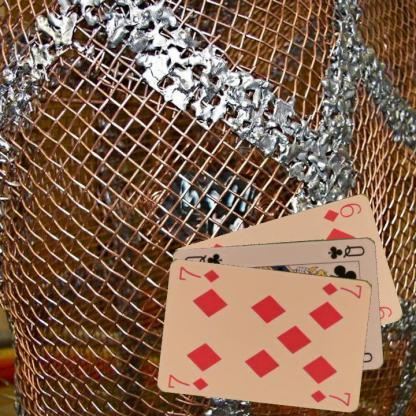6d: (321, 200, 363, 223)
7d: (320, 280, 364, 300), (166, 371, 210, 391)
Qc: (326, 242, 366, 260)
